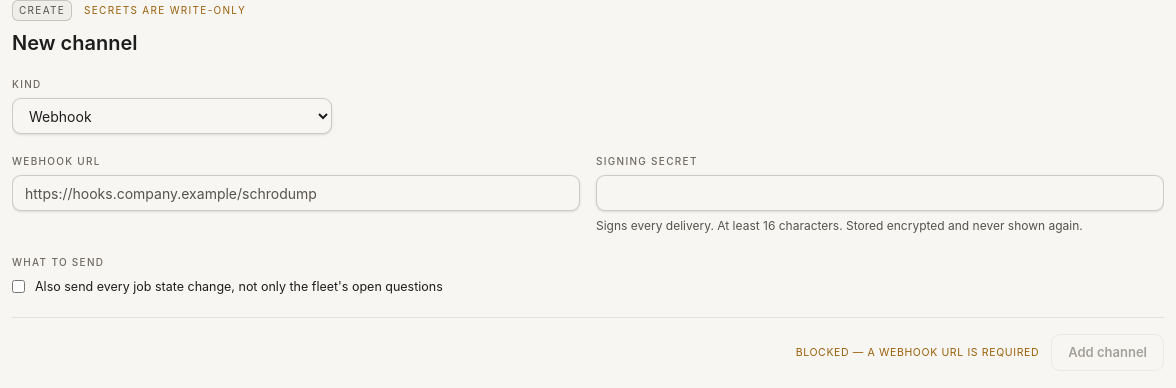
Test: ChannelForm › blocks Add channel with the reason until the kind's fields are filled
Expected: the button "Add channel" is disabled, 1051,334 -> 1164,371
Expected: the text with test id "button-blocked-reason" shows "a webhook URL is required", 868,346 -> 1039,359
Type "https://hooks.example/y" into the field labelled "Webhook URL" at (296, 193), box 12,175 -> 580,211
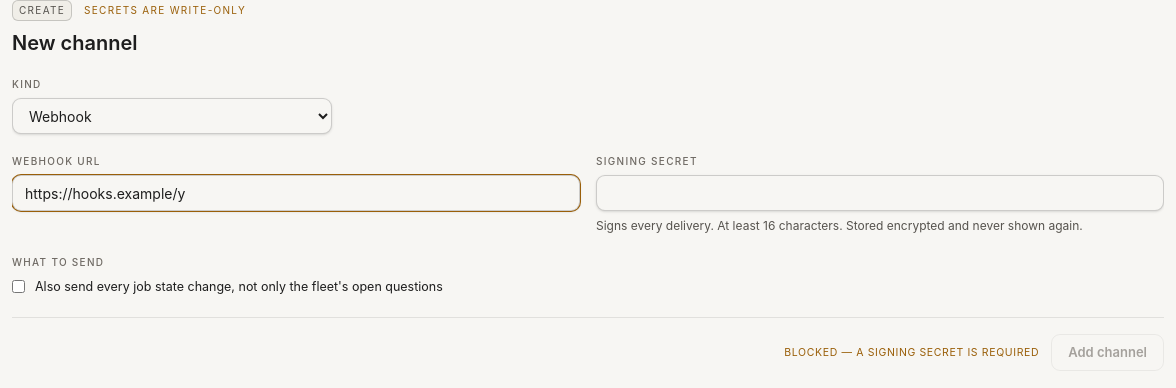
Expected: the text with test id "button-blocked-reason" shows "a signing secret is required", 856,346 -> 1039,359
